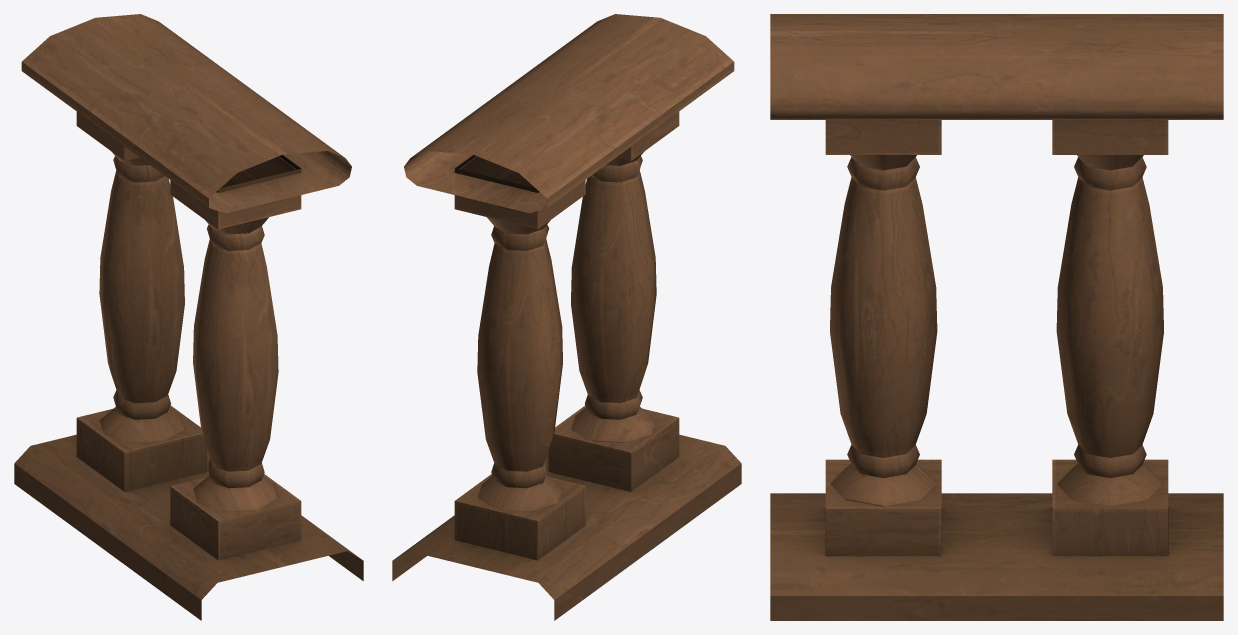
Rendered from wood_rail_pillar_32.glb.
3 renders of one model, left to right at view 1: azimuth 30°, elevation 25°; view 2: azimuth 150°, elevation 25°; view 3: azimuth 270°, elevation 25°, orthographic. The views are drawn at different scales.
Visible parts, largest first — view 1: wood_rail_pillar_32; view 2: wood_rail_pillar_32; view 3: wood_rail_pillar_32.
Part boxes in pixels (x1,y1,x2,y2): wood_rail_pillar_32: (14, 14, 363, 620); wood_rail_pillar_32: (392, 14, 741, 620); wood_rail_pillar_32: (770, 14, 1223, 620).
Size of the model in its own units: 0.3048 by 0.8025 by 0.6096.
Materials: 1 (1 with a texture image).
